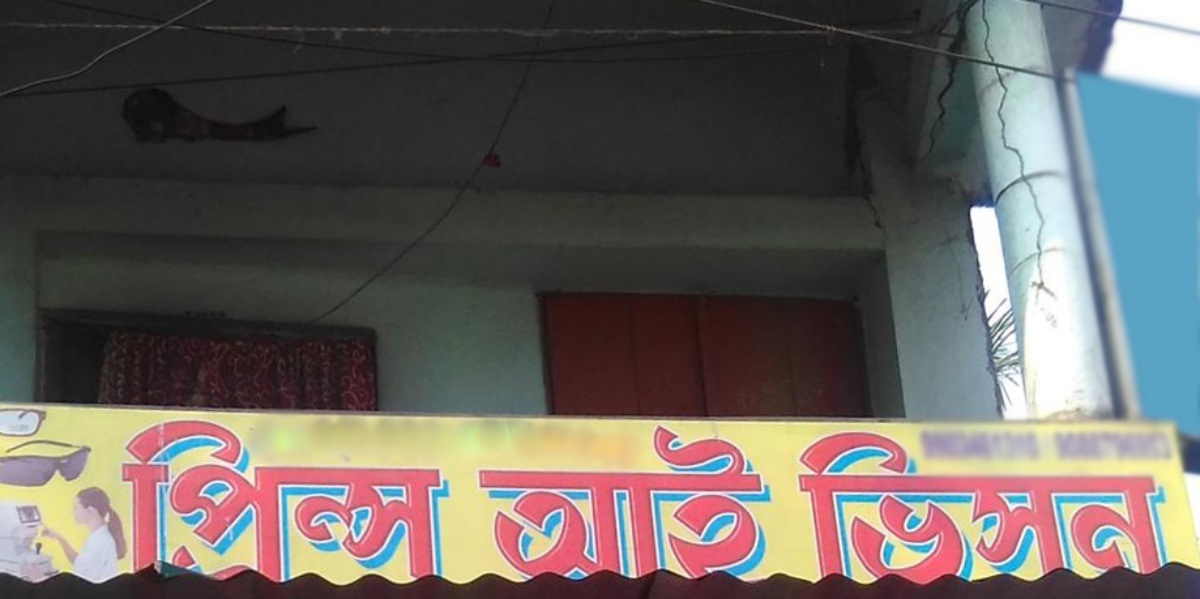text: (129, 412, 144, 580), (145, 412, 160, 580), (161, 412, 176, 580), (177, 412, 192, 580), (193, 412, 208, 580), (209, 412, 224, 580), (225, 412, 240, 580), (241, 412, 256, 580), (257, 412, 272, 580), (273, 412, 288, 580), (289, 412, 304, 580), (305, 412, 320, 580), (321, 412, 336, 580), (337, 412, 352, 580), (353, 412, 368, 580), (369, 412, 384, 580), (385, 412, 400, 580), (401, 412, 416, 580), (417, 412, 432, 580), (433, 412, 448, 580), (481, 419, 496, 583), (497, 419, 512, 583), (513, 419, 528, 583), (529, 419, 544, 583), (545, 419, 560, 583), (561, 419, 576, 583), (577, 419, 592, 583), (593, 419, 608, 583), (609, 419, 624, 583), (625, 419, 640, 583), (641, 419, 656, 583), (657, 419, 672, 583), (673, 419, 688, 583), (689, 419, 704, 583), (705, 419, 720, 583), (721, 419, 736, 583), (737, 419, 752, 583), (753, 419, 768, 583), (801, 432, 816, 575), (817, 432, 832, 575), (833, 432, 848, 575), (849, 432, 864, 575), (865, 432, 880, 575), (881, 432, 896, 575), (897, 432, 912, 575), (913, 432, 928, 575), (929, 432, 944, 575), (945, 432, 960, 575), (961, 432, 976, 575), (977, 432, 992, 575), (993, 432, 1008, 575), (1009, 432, 1024, 575), (1025, 432, 1040, 575), (1041, 432, 1056, 575), (1057, 432, 1072, 575), (1073, 432, 1088, 575), (1089, 432, 1104, 575), (1105, 432, 1120, 575), (1121, 432, 1136, 575), (1137, 432, 1152, 575), (1153, 432, 1163, 575), (125, 412, 128, 580), (449, 412, 451, 580), (478, 419, 480, 583), (769, 419, 771, 583)
